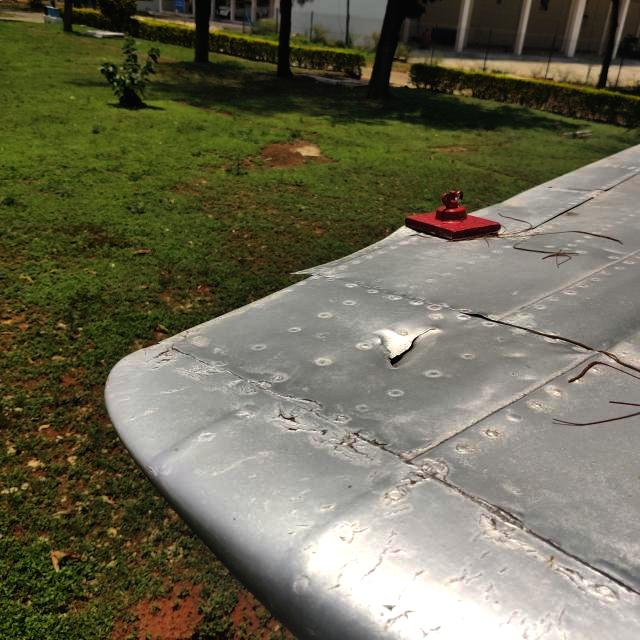crack: (370, 315, 444, 376)
